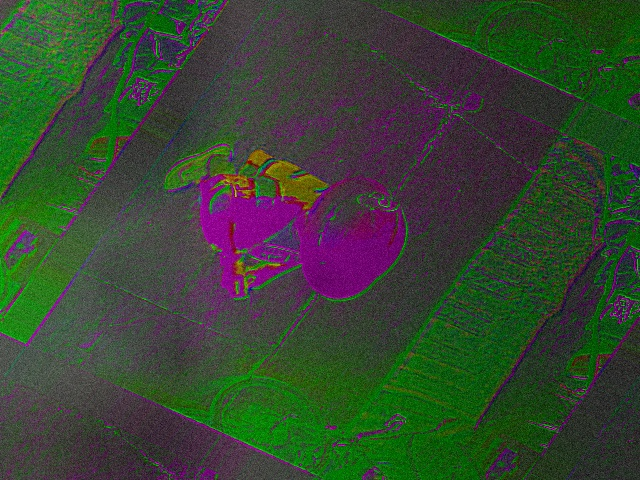eight: (353, 184, 403, 220)
